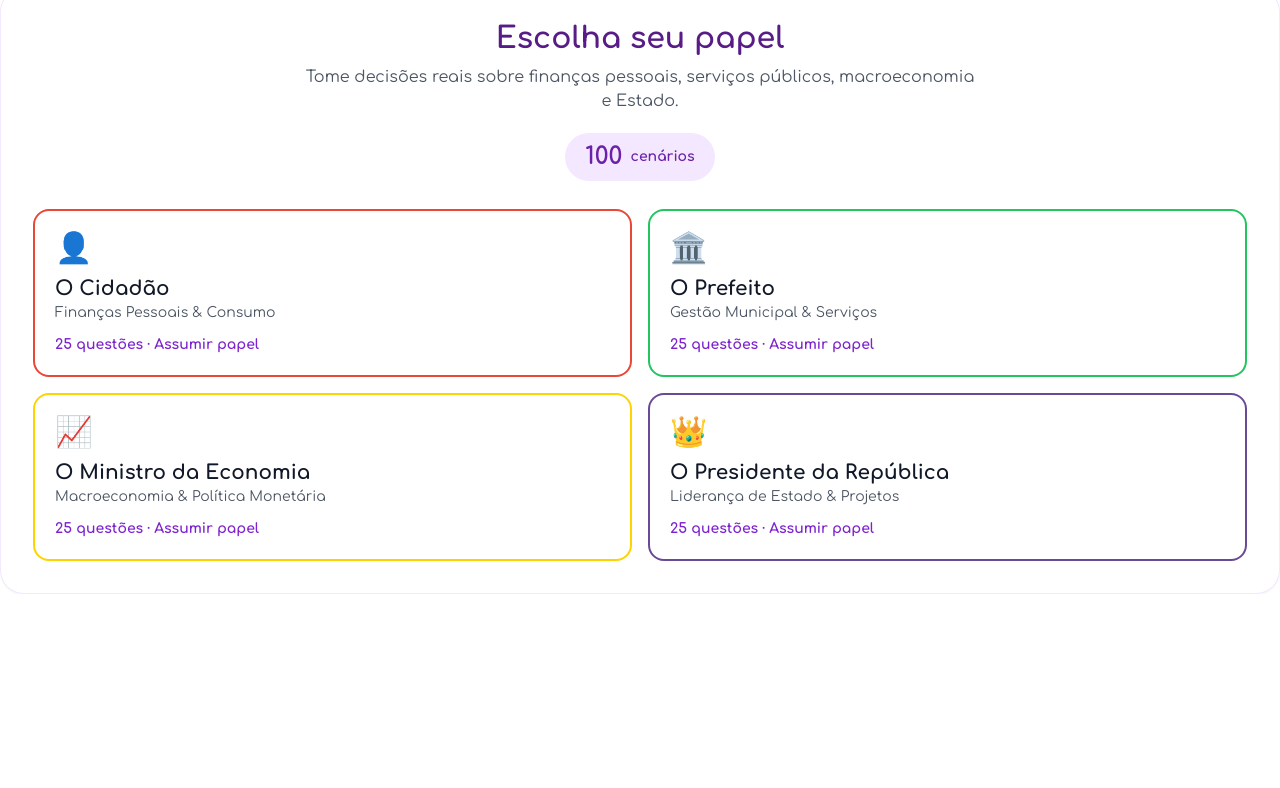
Cidadania Financeira — smoke de interação › abre um papel, responde um cenário e mostra o resultado da decisão
The width and height of the screenshot is (1280, 788).
Check: the text "100" is shown, box [585,141,622,173]
Check: the button "O Prefeito" is shown, box [648,209,1247,377]
Click the button "O Cidadão".
click(74, 248)  # box [33,209,632,377]
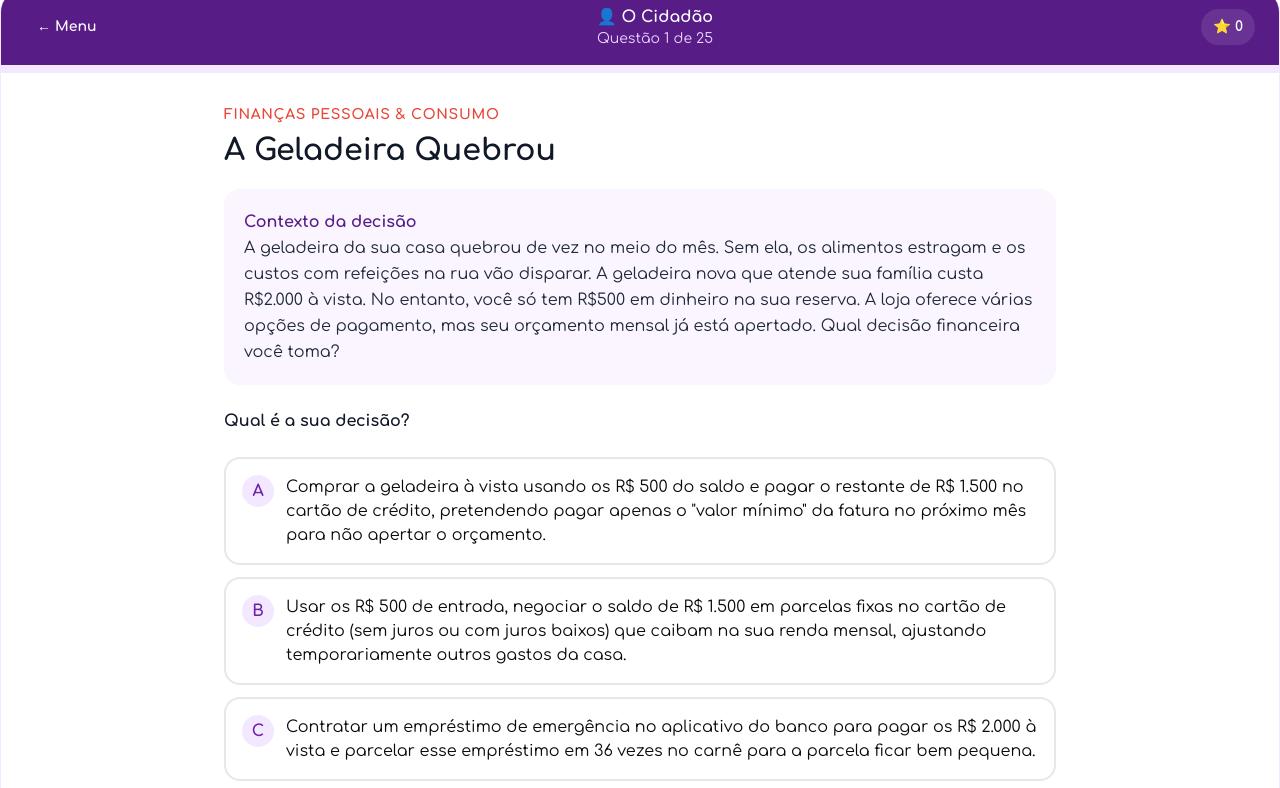
Check: the heading "A Geladeira Quebrou" is shown, box [224,134,556,167]
Check: the text "Questão 1 de 25" is shown, box [597,29,713,49]
Click the button with aria-label "Opção B: Usar os R$ 500 de entrada, negociar o saldo de R$ 1".
click(640, 631)  # box [224,577,1056,685]
(page scrolled)
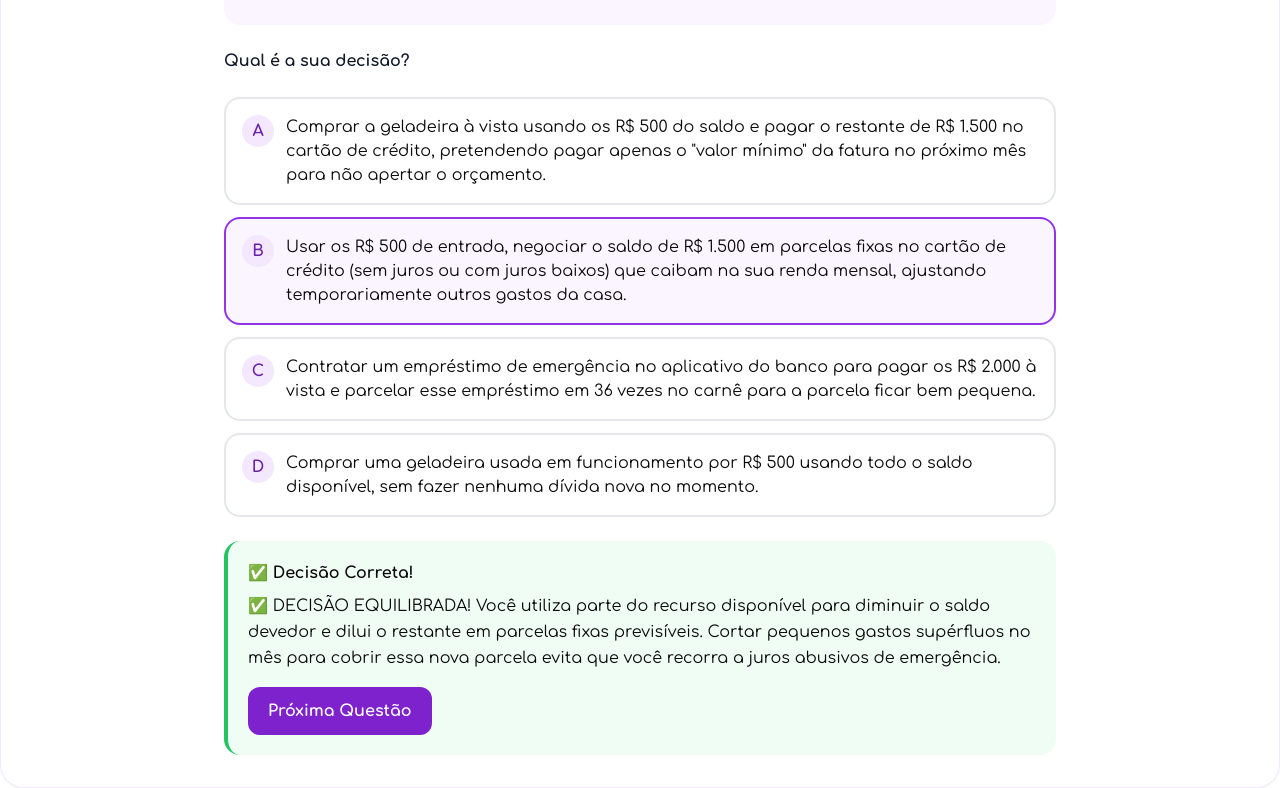
Check: the message shows "Decisão Correta", box [248,564,414,582]
Check: the button "Próxima Questão" is shown, box [248,687,432,735]
